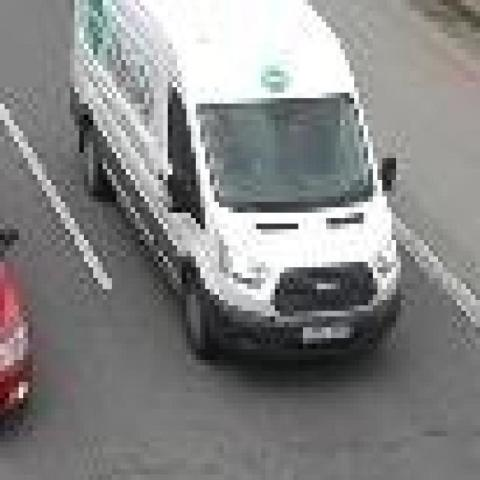van: (70, 0, 401, 360)
